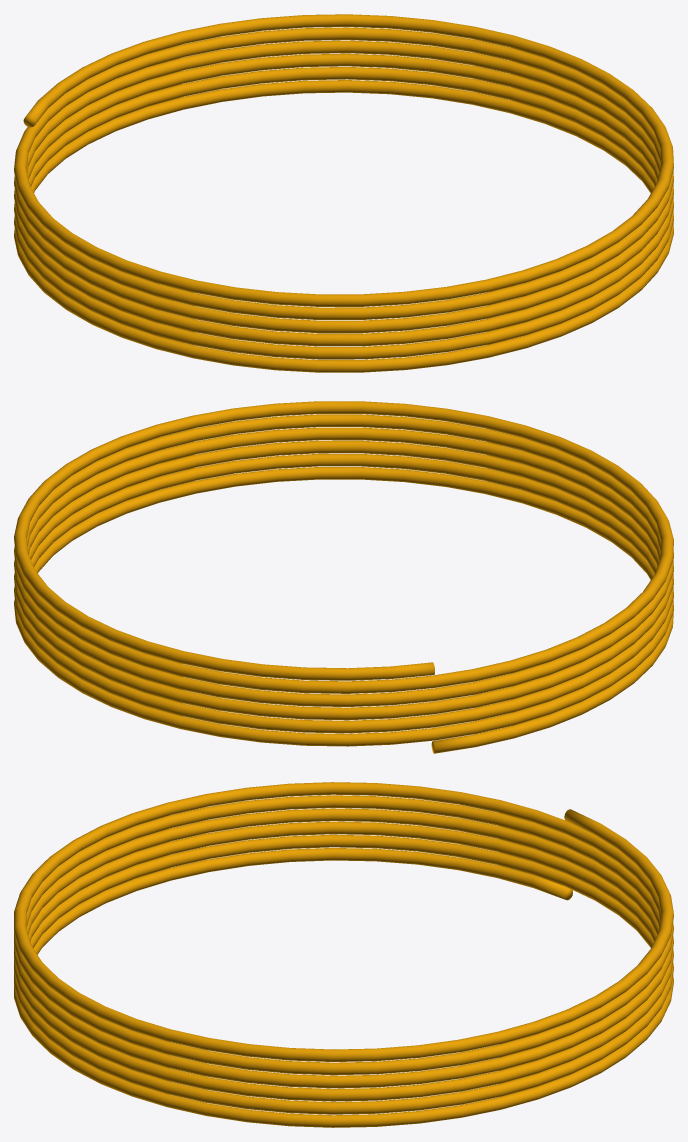
The model's file is mshCoil.fbx.
3 views of the same model, one above another, from view 1: azimuth 30°, elevation 25°; view 2: azimuth 150°, elevation 25°; view 3: azimuth 270°, elevation 25° (orthographic).
Visible parts, largest first — view 1: Coil; view 2: Coil; view 3: Coil.
Part boxes in pixels (x1,y1,x2,y2): Coil: [14, 14, 673, 372]; Coil: [14, 401, 673, 753]; Coil: [14, 782, 673, 1127].
Size of what is drawn, in the model's own units: 1034 by 156 by 1033.
